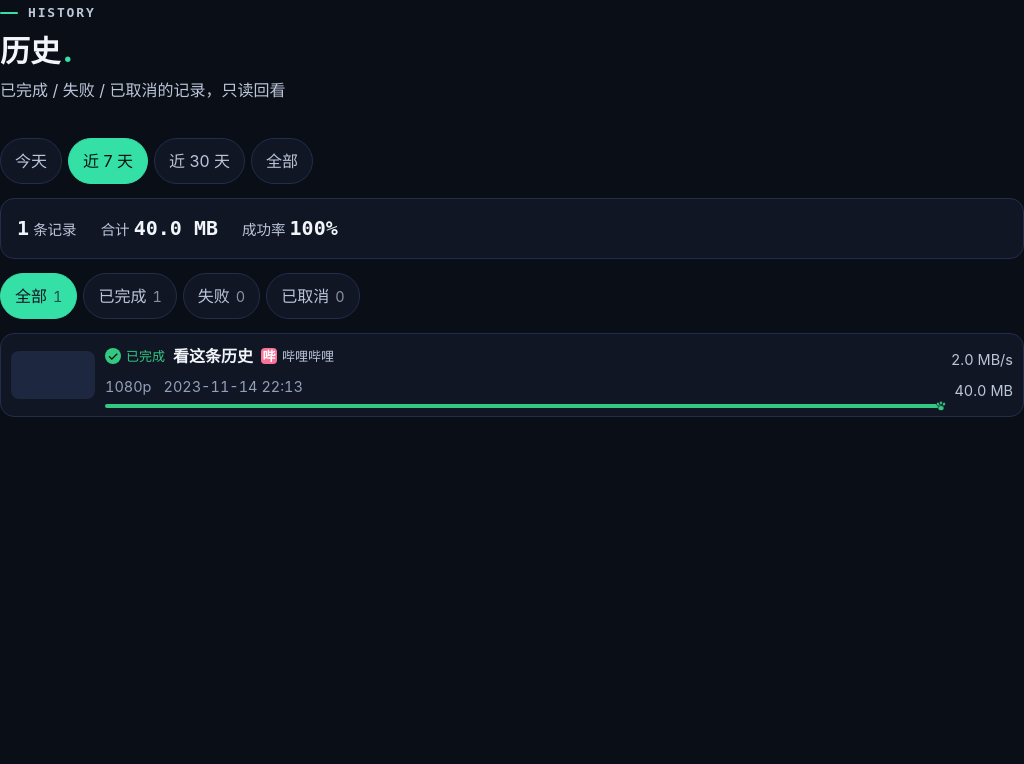
Scenario: History 视图 › 点行打开详情抽屉，事件与产物分别来自 tasks.events 与 api.taskDetail
Click the button with class "trow-main". click: (146, 356)
box: 105,342 -> 941,408
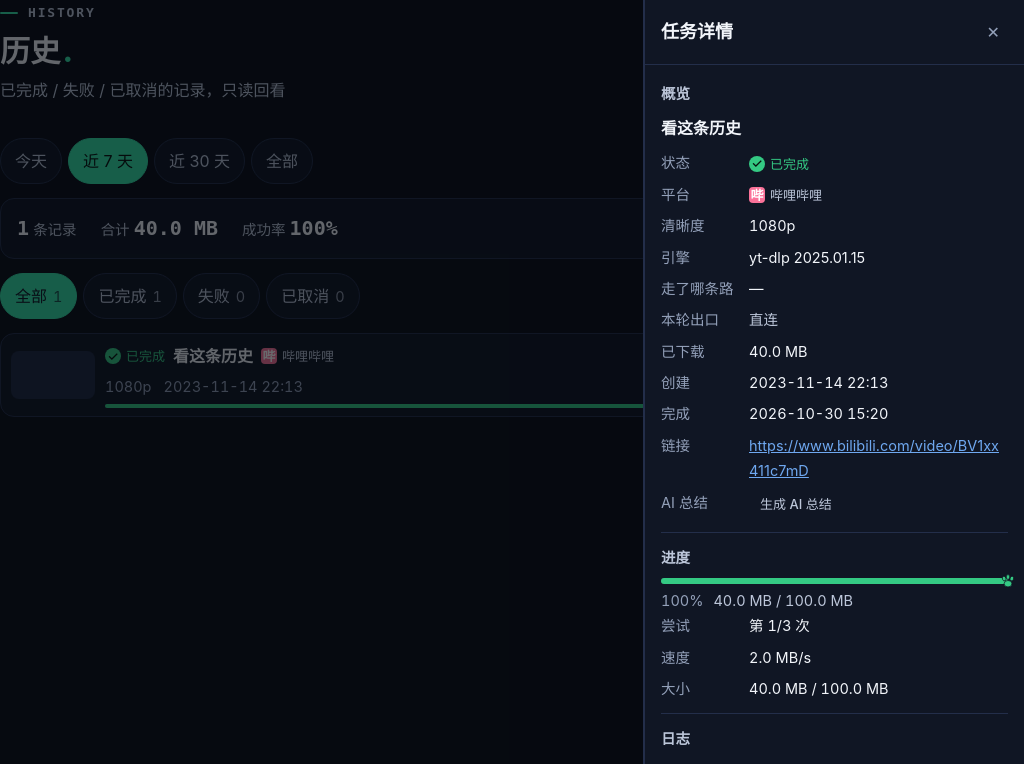
Expected: the element with class "dd-panel" shows "看这条历史", 661,118 -> 741,138
